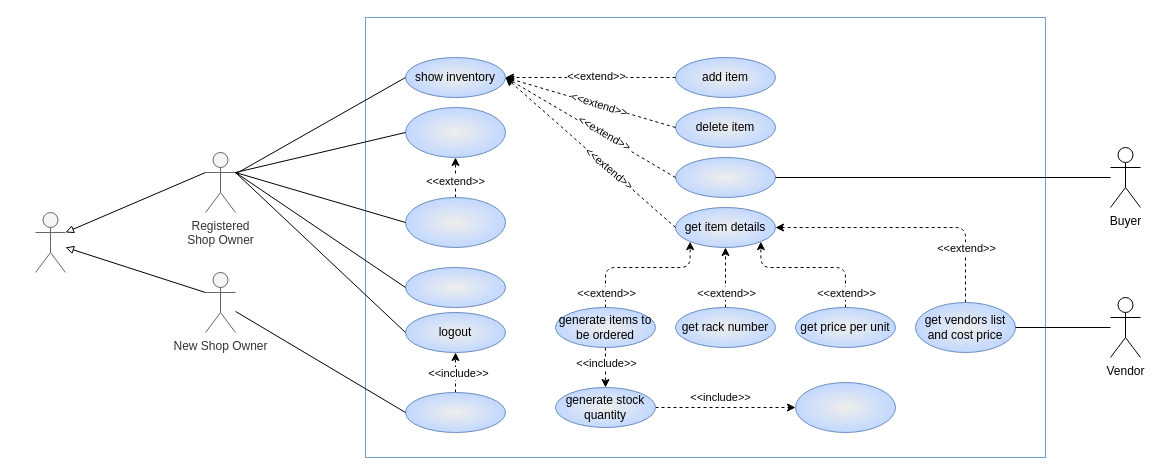
Image size: 1162x475. Some labels were removed from this diagram. The centre of each missing label's shape, as x and y in pixels:
calculate threshold quantity: the point at 845,407
generate monthly report: the point at 455,222
login: the point at 455,287
register: the point at 455,412
sell item: the point at 725,177
Shop Owner: the point at 50,242
show transaction history: the point at 455,132
